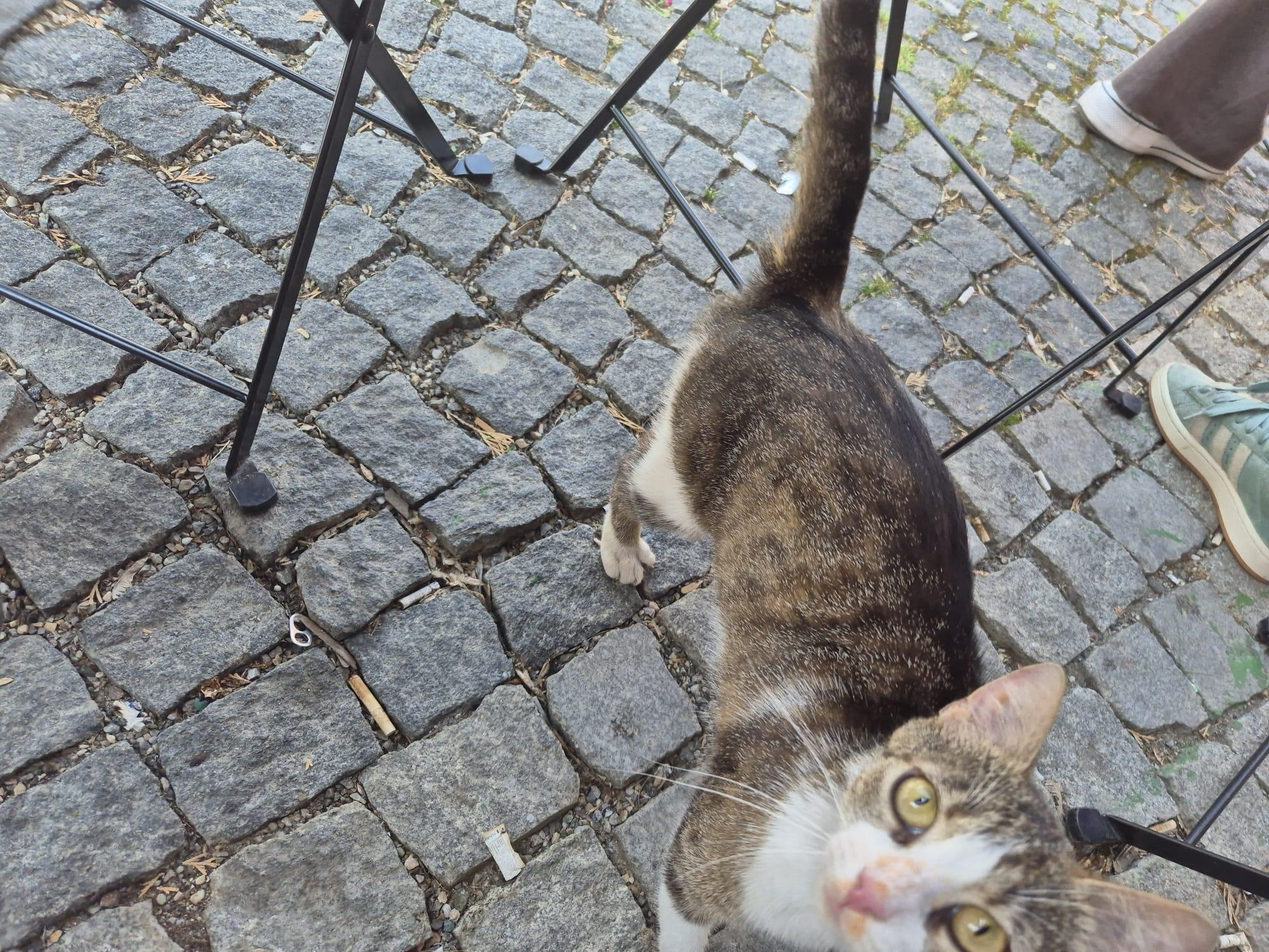macka: (597, 0, 1226, 951)
